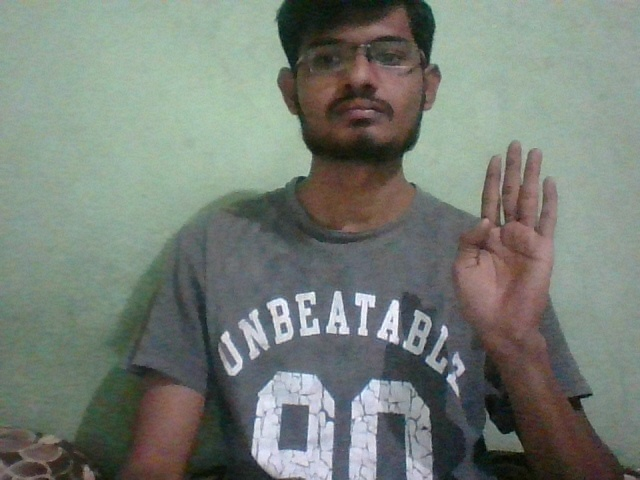Hello: (454, 136, 563, 342)
